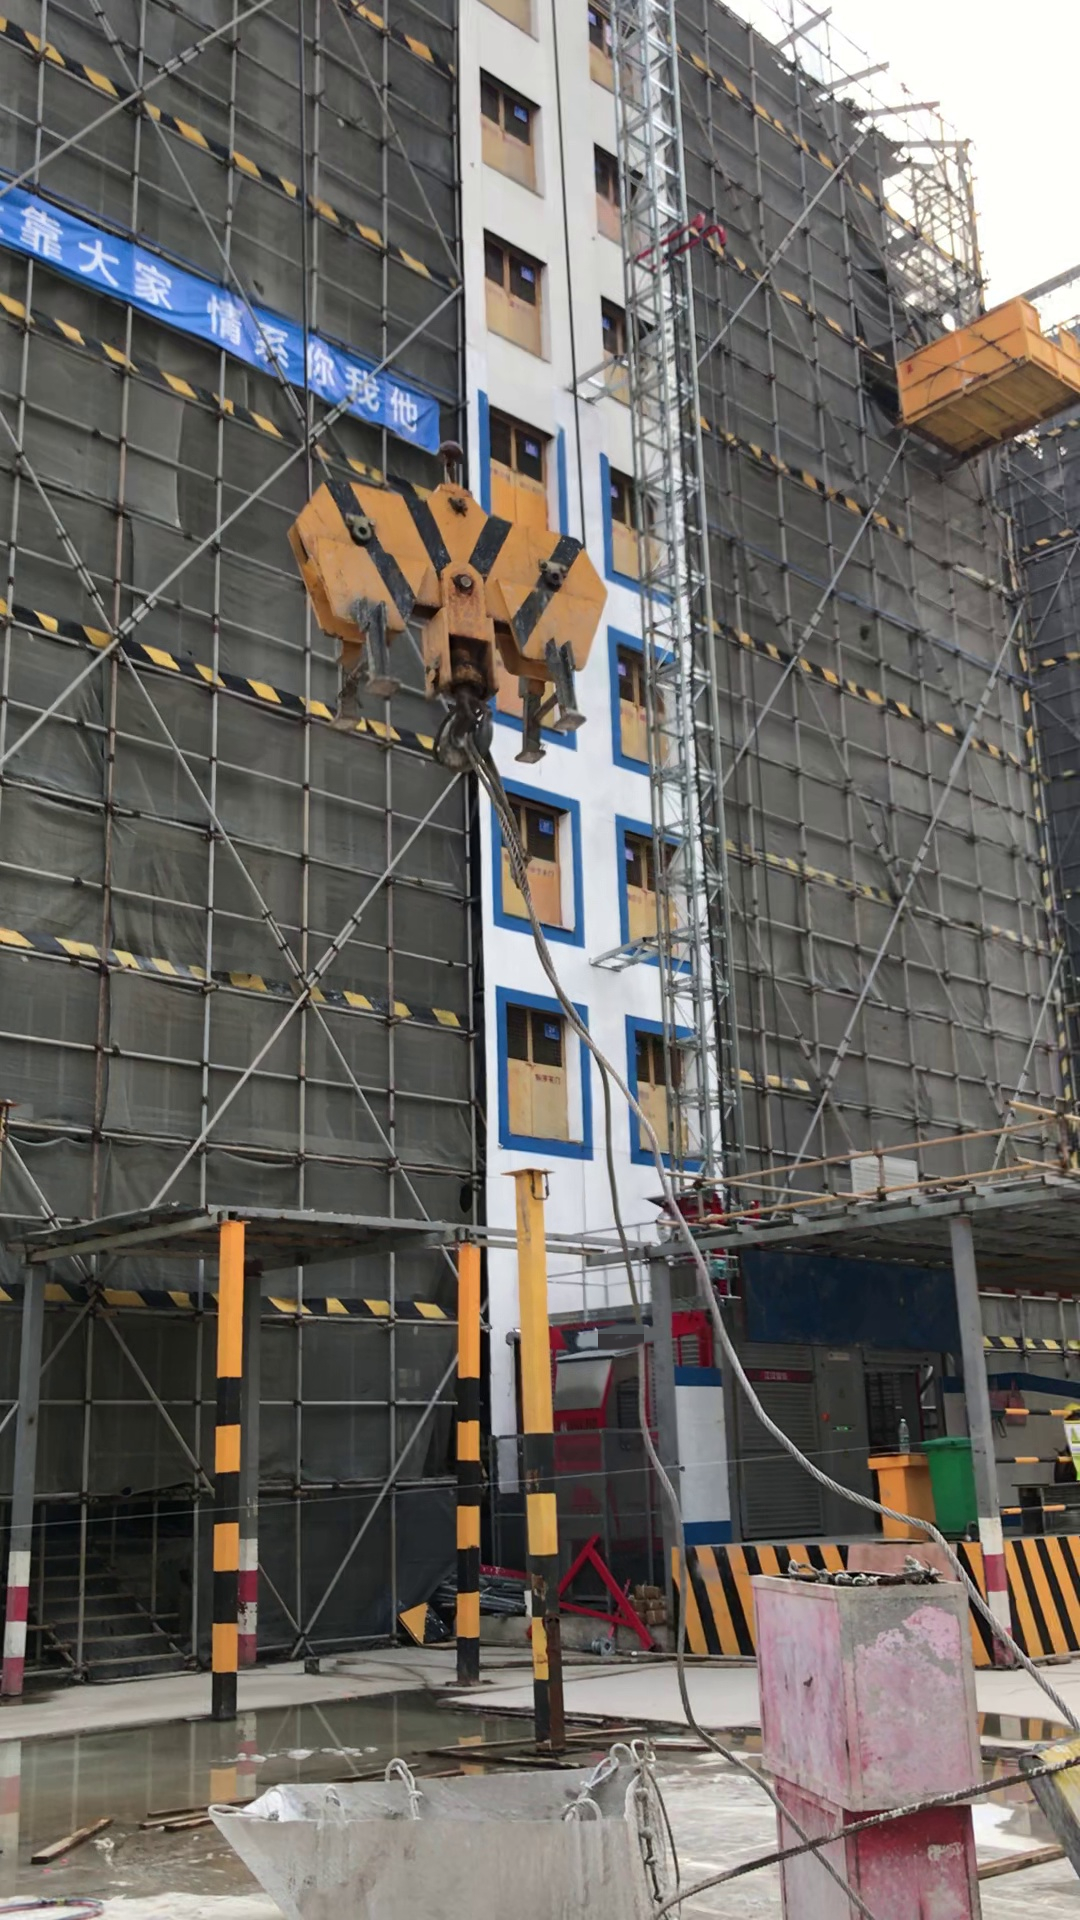ebox: (855, 1449, 931, 1538)
hook: (286, 483, 620, 749)
hopper: (216, 1742, 713, 1920)
slogan: (11, 179, 425, 444)
